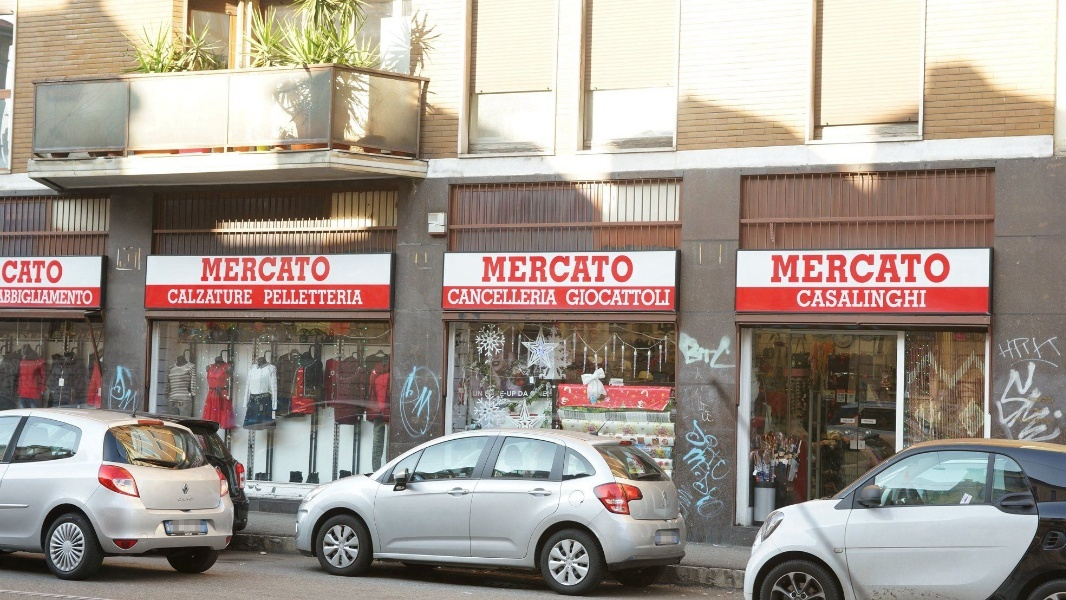text: (689, 415, 704, 510), (705, 415, 720, 510), (417, 357, 432, 441), (675, 415, 688, 510), (769, 253, 784, 285), (785, 253, 800, 285), (801, 253, 816, 285), (817, 253, 832, 285), (833, 253, 848, 285), (849, 253, 864, 285), (865, 253, 880, 285), (881, 253, 896, 285), (897, 253, 912, 285), (913, 253, 928, 285), (929, 253, 944, 285), (721, 415, 726, 510), (481, 254, 496, 284), (497, 254, 512, 284), (513, 254, 528, 284), (529, 254, 544, 284), (545, 254, 560, 284), (561, 254, 576, 284), (577, 254, 592, 284), (593, 254, 608, 284), (609, 254, 624, 284), (1009, 333, 1024, 362), (1025, 333, 1040, 362), (1041, 333, 1056, 362), (49, 259, 65, 286), (209, 257, 224, 284), (225, 257, 240, 284), (241, 257, 256, 284), (257, 257, 272, 284), (273, 257, 288, 284), (289, 257, 304, 284), (305, 257, 320, 284), (17, 259, 32, 286), (33, 259, 48, 286), (2, 259, 16, 286), (801, 288, 816, 311), (817, 288, 832, 311), (833, 288, 848, 311), (849, 288, 864, 311), (865, 288, 880, 311), (881, 288, 896, 311), (897, 288, 912, 311), (913, 288, 928, 311), (657, 288, 673, 309), (625, 254, 636, 284), (321, 257, 333, 284), (997, 333, 1008, 362), (577, 288, 592, 309), (593, 288, 608, 309), (609, 288, 624, 309), (625, 288, 640, 309), (641, 288, 656, 309), (449, 288, 464, 308), (465, 288, 480, 308), (481, 288, 496, 308), (497, 288, 512, 308), (513, 288, 528, 308), (529, 288, 544, 308), (545, 288, 560, 308), (945, 253, 954, 285), (273, 289, 288, 308), (289, 289, 304, 308), (305, 289, 320, 308), (321, 289, 336, 308), (337, 289, 352, 308), (563, 288, 576, 309), (177, 288, 192, 306), (193, 288, 208, 306), (209, 288, 224, 306), (225, 288, 240, 306), (1, 289, 16, 306), (17, 289, 32, 306), (33, 289, 48, 306), (49, 289, 64, 306), (65, 289, 80, 306), (433, 357, 436, 441), (353, 289, 366, 308), (81, 289, 95, 306), (200, 257, 208, 284), (241, 288, 253, 306), (261, 289, 272, 308), (414, 357, 416, 441), (1057, 333, 1062, 362), (168, 288, 176, 306), (497, 390, 512, 398), (531, 391, 544, 398), (485, 390, 496, 398), (519, 390, 528, 398), (473, 389, 480, 399), (798, 288, 800, 311), (513, 390, 517, 398), (481, 389, 484, 399), (545, 391, 549, 398), (529, 390, 530, 398)
